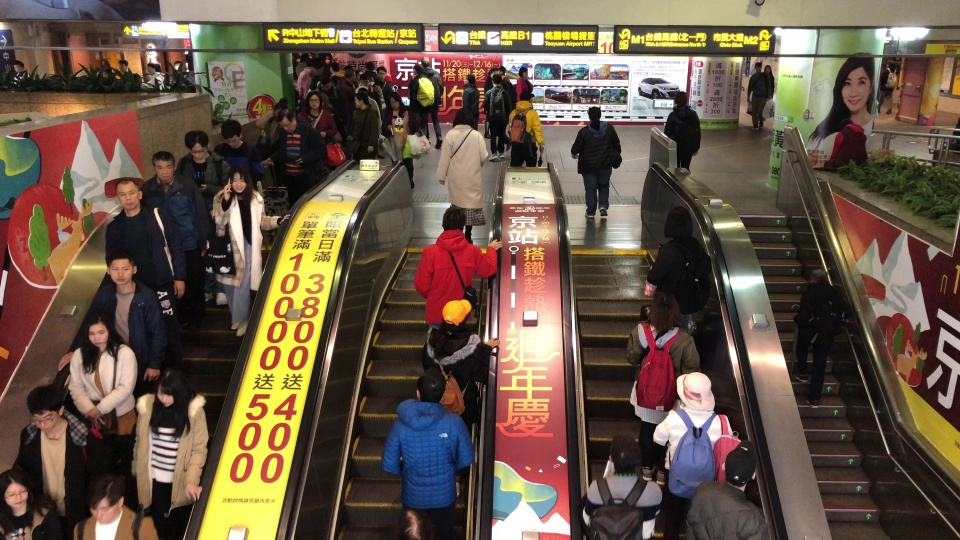person_head: (86, 474, 125, 525), (25, 384, 63, 431), (723, 446, 757, 490), (608, 433, 642, 474), (0, 469, 32, 509), (155, 368, 189, 405), (396, 508, 435, 540), (648, 291, 680, 329), (104, 250, 137, 285), (414, 367, 446, 403), (680, 372, 711, 408), (82, 311, 112, 347), (663, 205, 693, 238), (114, 178, 143, 210), (183, 129, 209, 158), (151, 150, 176, 180), (228, 164, 253, 193), (440, 206, 467, 231), (440, 300, 466, 325), (220, 118, 242, 147), (275, 108, 296, 131), (451, 107, 474, 126), (810, 267, 829, 284), (305, 91, 322, 109), (353, 90, 368, 109), (272, 101, 287, 118), (837, 117, 854, 132), (389, 92, 403, 110), (672, 90, 688, 105), (587, 106, 601, 121), (518, 90, 532, 103), (375, 65, 387, 80), (320, 75, 331, 90), (462, 73, 477, 84), (359, 73, 370, 87), (491, 73, 503, 85), (117, 58, 128, 71), (12, 60, 23, 72), (328, 60, 339, 72), (344, 69, 354, 82), (146, 62, 158, 72), (173, 60, 183, 71), (364, 60, 374, 71), (518, 66, 528, 77), (413, 64, 423, 74), (495, 66, 506, 75), (488, 68, 496, 79), (754, 61, 762, 71), (764, 64, 771, 75), (299, 54, 307, 63), (306, 58, 314, 67), (885, 59, 893, 67), (421, 61, 430, 68), (324, 56, 330, 63)
person_vbox: (380, 368, 475, 539), (56, 250, 168, 385), (653, 372, 742, 540), (625, 291, 700, 485), (103, 177, 185, 346), (211, 164, 290, 339), (138, 150, 211, 332), (130, 368, 210, 523), (412, 206, 503, 332), (420, 299, 500, 432), (174, 130, 230, 306), (19, 384, 87, 522), (68, 311, 138, 437), (646, 205, 713, 334), (582, 433, 662, 540), (685, 446, 768, 540), (793, 267, 846, 411), (435, 106, 489, 246), (263, 108, 326, 208), (570, 106, 622, 219), (72, 474, 158, 540), (0, 468, 58, 540), (380, 91, 422, 189), (212, 117, 264, 182), (662, 90, 701, 168), (812, 118, 867, 172), (254, 101, 288, 186), (508, 90, 544, 167), (482, 73, 511, 162), (421, 62, 444, 149), (408, 64, 435, 137), (297, 91, 337, 140), (350, 90, 379, 157), (746, 62, 771, 131), (318, 74, 346, 128), (876, 58, 898, 114), (358, 73, 384, 119), (482, 68, 496, 138), (296, 58, 319, 99), (462, 73, 480, 122), (335, 69, 355, 107), (516, 67, 534, 102), (375, 65, 392, 102), (12, 60, 33, 86), (495, 66, 513, 94), (169, 60, 187, 84), (764, 63, 775, 99), (328, 61, 344, 83), (295, 54, 308, 76)
